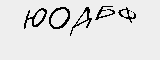З: (101, 24, 122, 48)
П: (53, 26, 76, 46)
У: (123, 24, 148, 48), (78, 23, 99, 47)
Х: (38, 29, 54, 44)
Ө: (25, 29, 39, 43)
